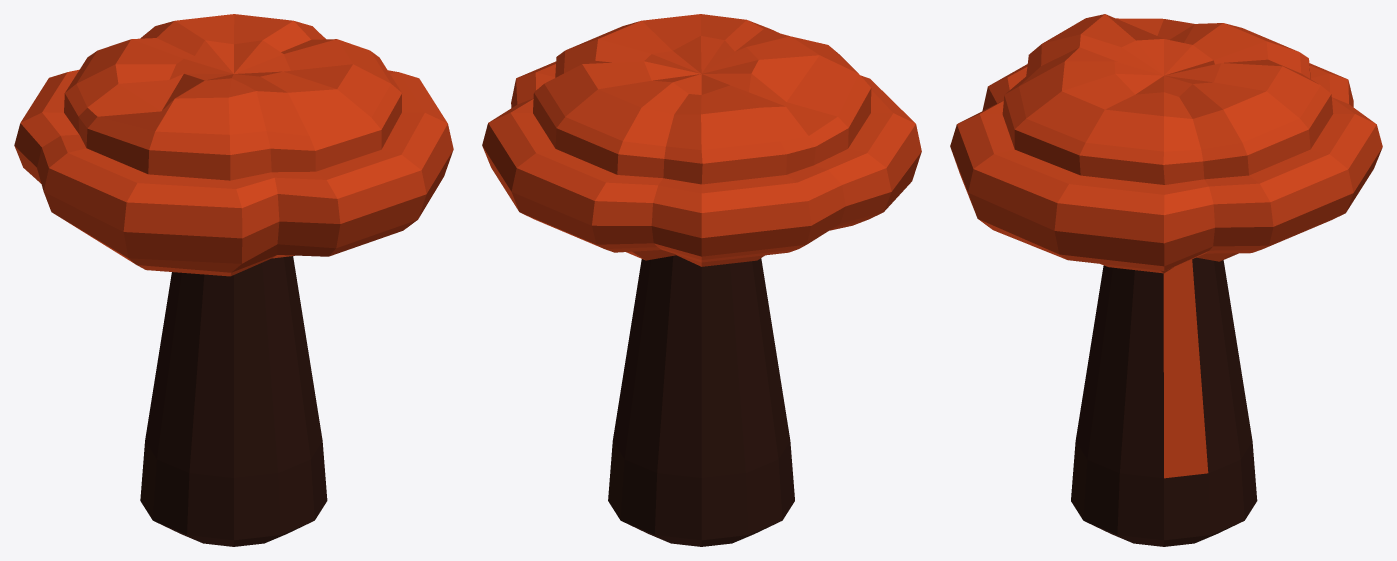
Rendered from GiantcloudMushroom.fbx.
The picture shows the model from 3 angles, left to right: view 1: azimuth 30°, elevation 25°; view 2: azimuth 150°, elevation 25°; view 3: azimuth 270°, elevation 25°; orthographic projection.
Parts seen in each view (by area): view 1: Cloud; view 2: Cloud; view 3: Cloud.
Boxes of the visible parts, x1,y1,x2,y2 form: Cloud: (14, 14, 453, 546); Cloud: (482, 14, 921, 546); Cloud: (950, 14, 1382, 546).
Bounding box in the file's own units: 1065 × 1246 × 1053.
